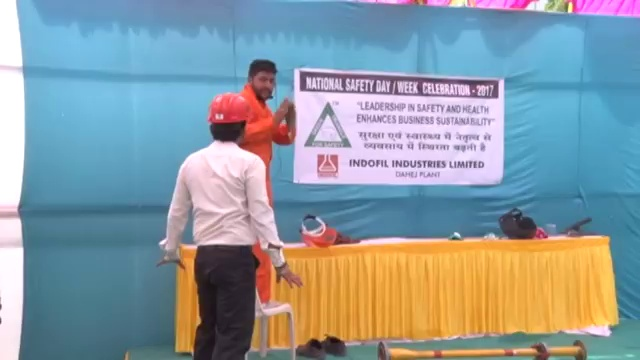helmet: (207, 91, 251, 125)
helmet_off: (249, 57, 277, 103)
helmet_on: (207, 90, 251, 144)
person: (156, 90, 297, 360), (234, 57, 306, 297)
